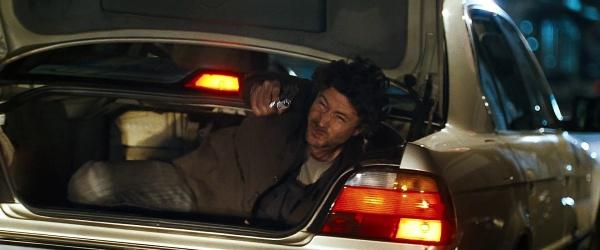Gun: (267, 96, 294, 111)
